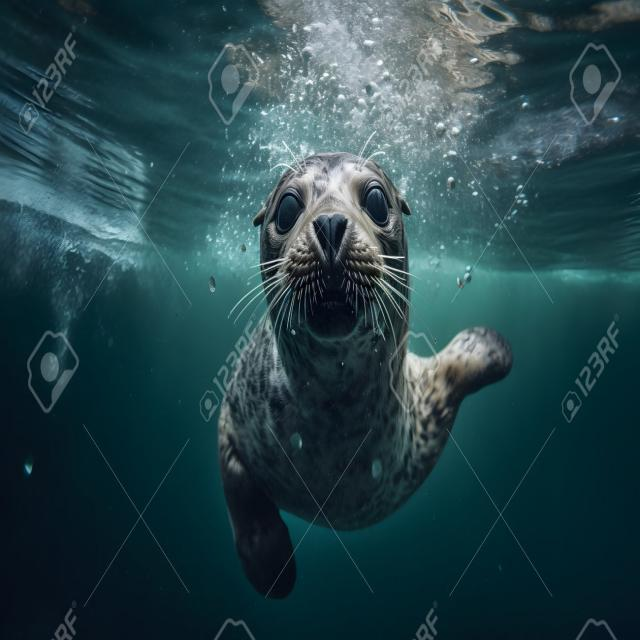WaterDog: (217, 149, 513, 610)
